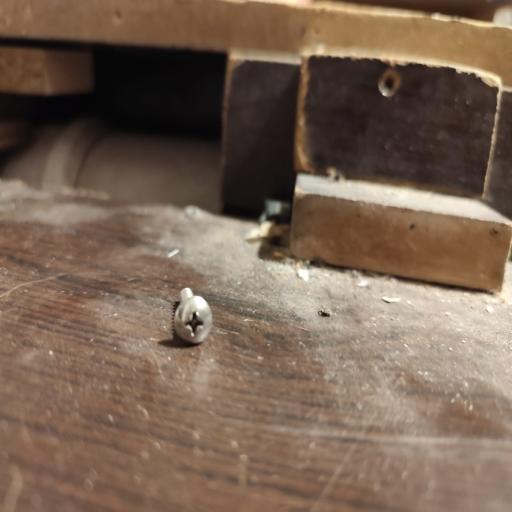Phillips: (172, 288, 213, 347)
